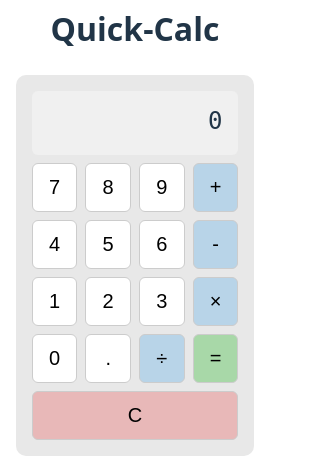
Test: Calculator integration › user flow: enter 5, press +, enter 3, press =, expect 8
The width and height of the screenshot is (320, 473).
What coordinates should you click on to do the following:
click the button with test id "digit-5"
I would click on:
 (108, 244)
Its box is top-left (85, 220), bottom-right (131, 269).
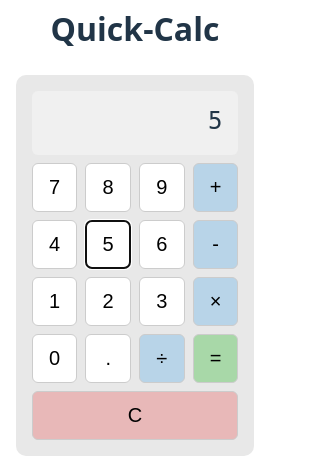
Check: the message with test id "calculator-display" reads "5", box top-left (208, 107), bottom-right (222, 135)
What coordinates should you click on to do the following:
click the button with test id "operator-+"
I would click on:
 (216, 187)
Its box is top-left (193, 163), bottom-right (238, 212).
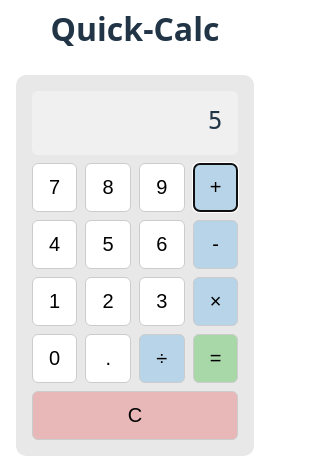
What coordinates should you click on to do the following:
click the button with test id "digit-3"
I would click on:
 (162, 301)
Its box is top-left (139, 277), bottom-right (185, 326).
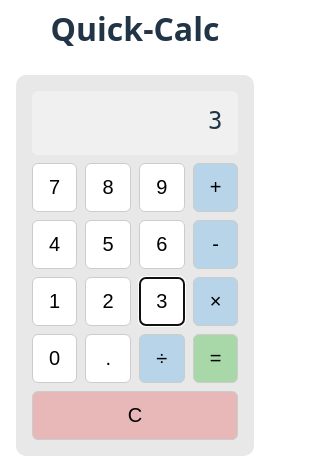
Check: the message with test id "calculator-display" reads "3", box top-left (208, 107), bottom-right (222, 135)
What coordinates should you click on to do the following:
click the button with test id "equals"
I would click on:
 (216, 358)
Its box is top-left (193, 334), bottom-right (238, 383).
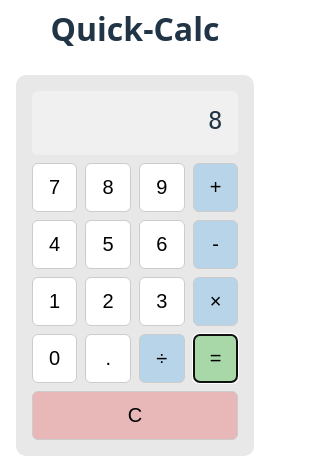
Check: the message with test id "calculator-display" reads "8", box top-left (208, 107), bottom-right (222, 135)
